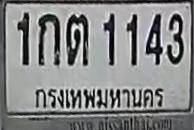1: (103, 13, 115, 66), (17, 12, 29, 65), (126, 13, 138, 66)
3: (166, 13, 184, 64)
4: (145, 13, 162, 65)
A01: (37, 13, 60, 66)
A21: (66, 13, 88, 66)
SPK: (30, 83, 170, 113)
